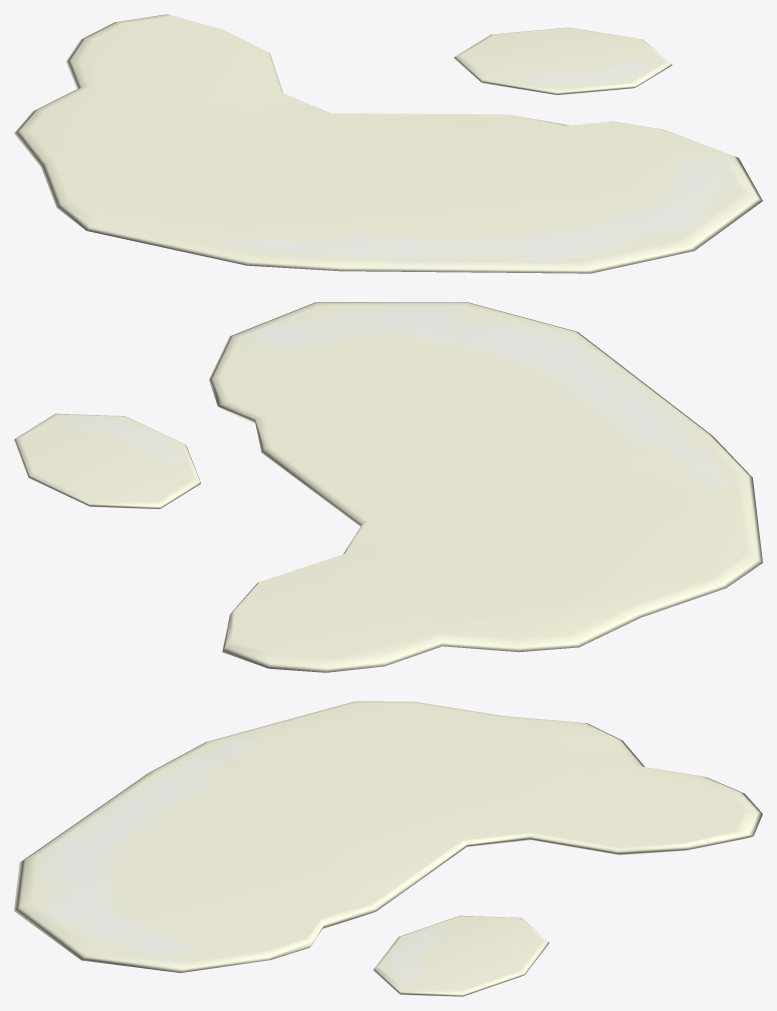
The model's file is WaterSpill.fbx.
3 views of the same model, one above another, from view 1: azimuth 30°, elevation 25°; view 2: azimuth 150°, elevation 25°; view 3: azimuth 270°, elevation 25° (orthographic). The views are drawn at different scales.
Visible parts, largest first — view 1: pPlane3; view 2: pPlane3; view 3: pPlane3.
Part boxes in pixels (box(x1,y1,x2,y2)): pPlane3: box(14, 14, 762, 273); pPlane3: box(14, 302, 762, 672); pPlane3: box(14, 701, 762, 996).
Bounding box in the file's own units: 2.04 × 0.0251 × 2.19.
